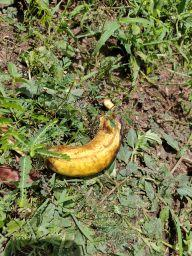banana: (44, 97, 125, 178)
